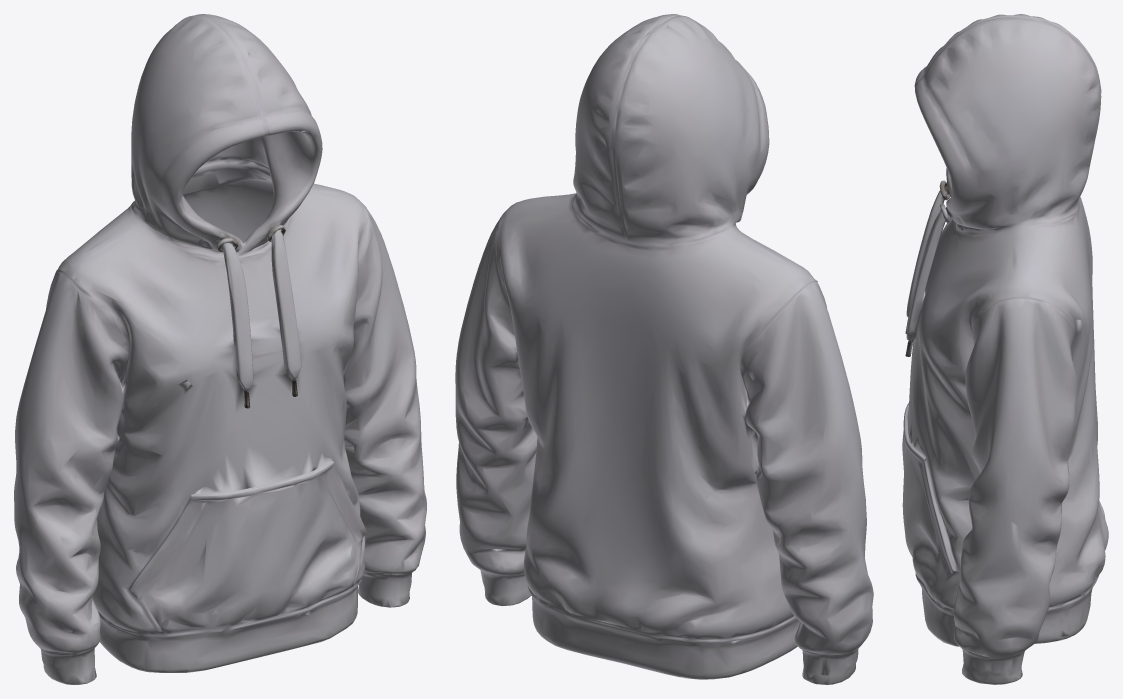
Rendered from hoodie-long.glb.
The picture shows the model from 3 angles, left to right: view 1: azimuth 30°, elevation 25°; view 2: azimuth 150°, elevation 25°; view 3: azimuth 270°, elevation 25°; orthographic projection. The views are drawn at different scales.
Parts seen in each view (by area): view 1: material; view 2: material; view 3: material.
Part boxes in pixels (left/top/right/bottom): material: left=14, top=14, right=426, bottom=684; material: left=455, top=14, right=873, bottom=684; material: left=902, top=14, right=1108, bottom=684.
Bounding box in the file's own units: 0.7026 × 1.03 × 0.3284.
1 material, 1 textured.
